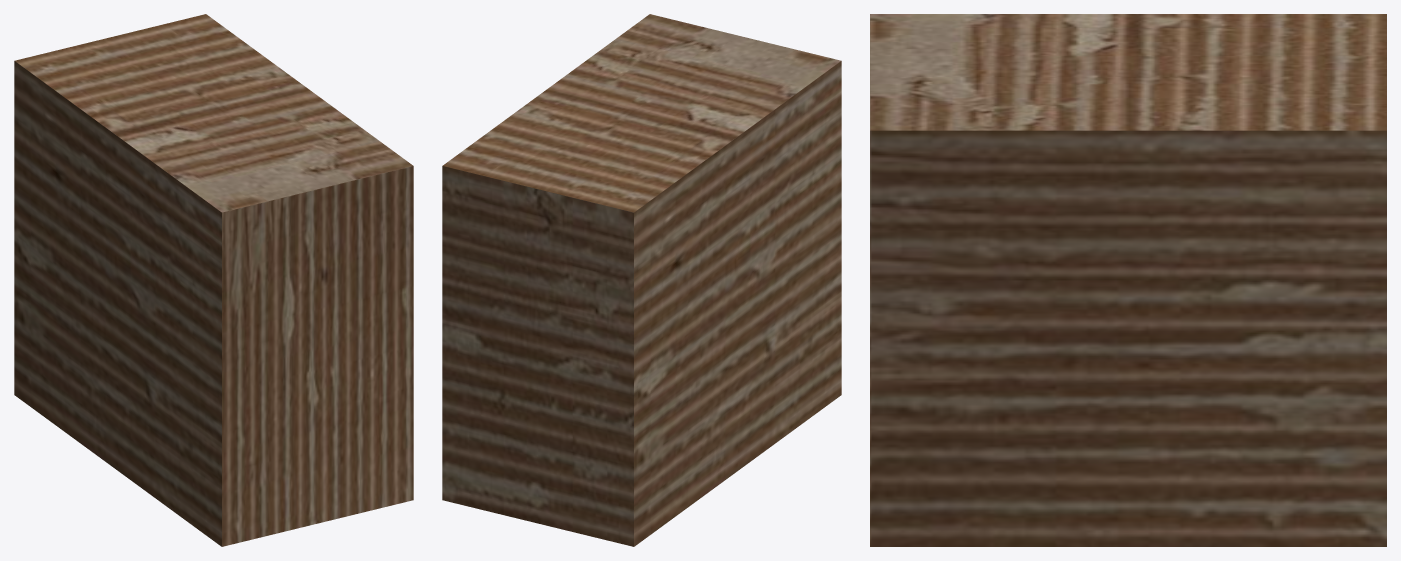
File: cartoon.dae
3 renders of one model, left to right at view 1: azimuth 30°, elevation 25°; view 2: azimuth 150°, elevation 25°; view 3: azimuth 270°, elevation 25°, orthographic. The views are drawn at different scales.
Visible parts, largest first — view 1: Cube; view 2: Cube; view 3: Cube.
Part boxes in pixels (x1,y1,x2,y2): Cube: (14,14,413,546); Cube: (442,14,841,546); Cube: (870,14,1386,546).
Bounding box in the file's own units: 0.1044 × 0.1958 × 0.174.
1 material, 1 textured.
